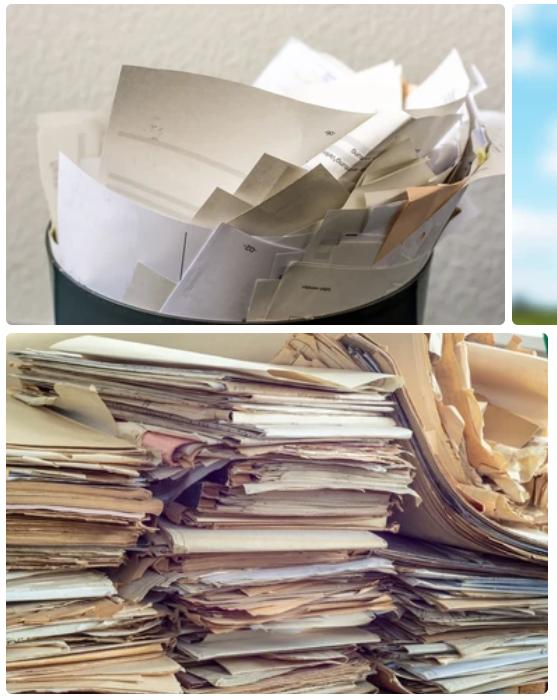Paper: (58, 336, 387, 691), (381, 341, 549, 699), (91, 64, 377, 218), (9, 431, 178, 687), (58, 149, 270, 323), (249, 30, 410, 111)
